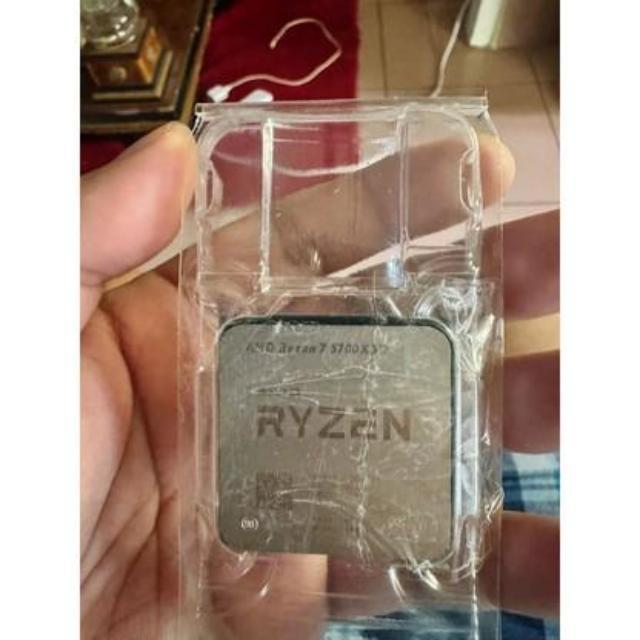CPU: (213, 315, 458, 563)
